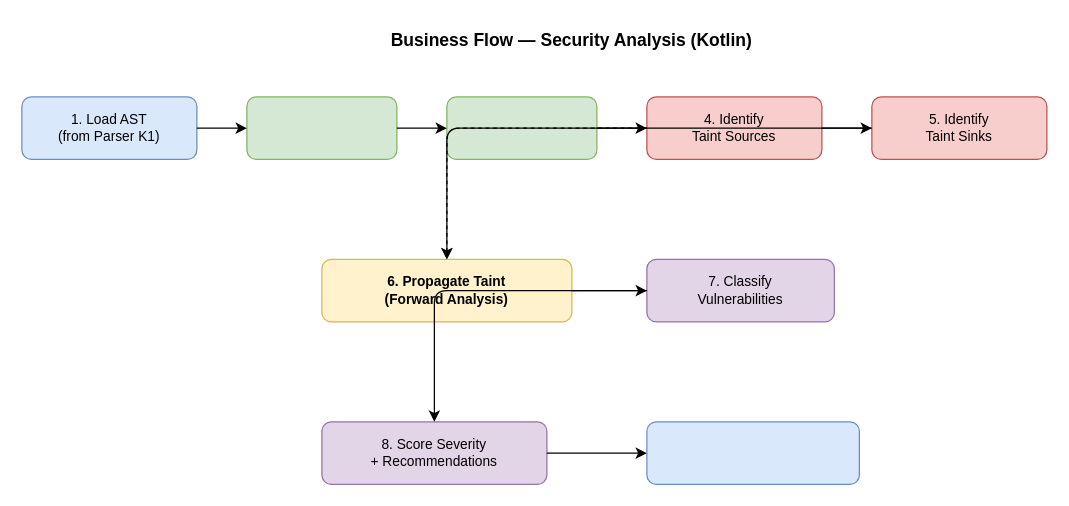
Image size: 1069x506. Some labels were removed from this diagram. Each missing label, with the centre of its shape:
2. Build CFG: (321,127)
3. Build DFG: (521,127)
9. Return Vulnerability Report: (752,452)
